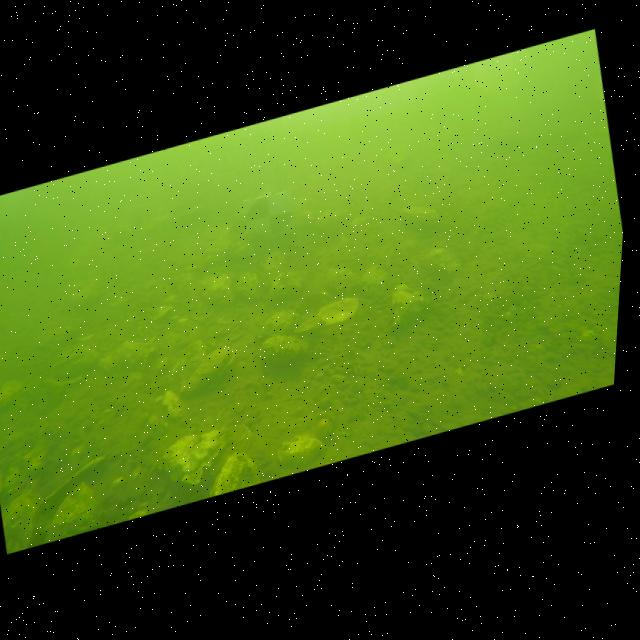Oyster-Closed: (163, 427, 231, 485), (3, 480, 42, 554), (300, 268, 363, 313), (180, 346, 236, 393), (210, 452, 260, 497), (99, 341, 157, 372), (391, 283, 428, 326), (278, 435, 326, 466), (263, 334, 308, 364), (269, 271, 303, 304), (400, 206, 440, 231), (201, 274, 234, 303), (425, 248, 460, 272), (229, 233, 255, 259), (362, 266, 387, 293), (237, 272, 261, 299), (264, 251, 286, 280)
Oyster-Indeterminate: (42, 479, 107, 542), (167, 335, 207, 387)
Oyster-Open: (38, 453, 111, 510), (295, 297, 359, 333)
